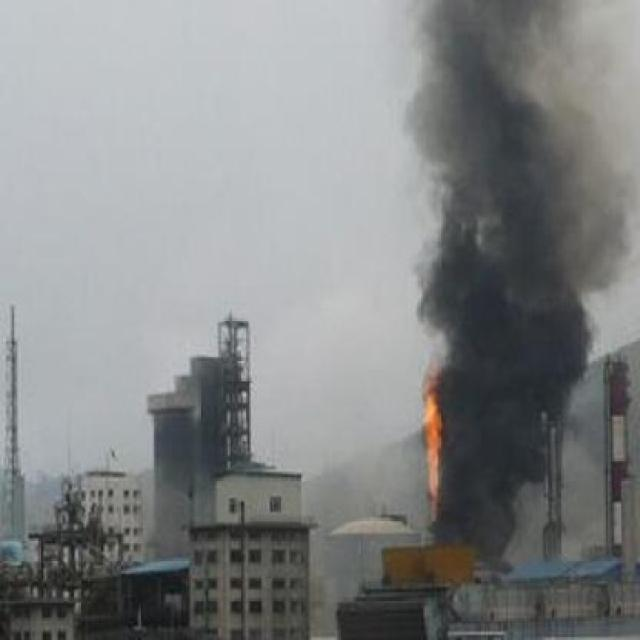Fire: (410, 383, 440, 532)
Smoke: (441, 8, 627, 550)
